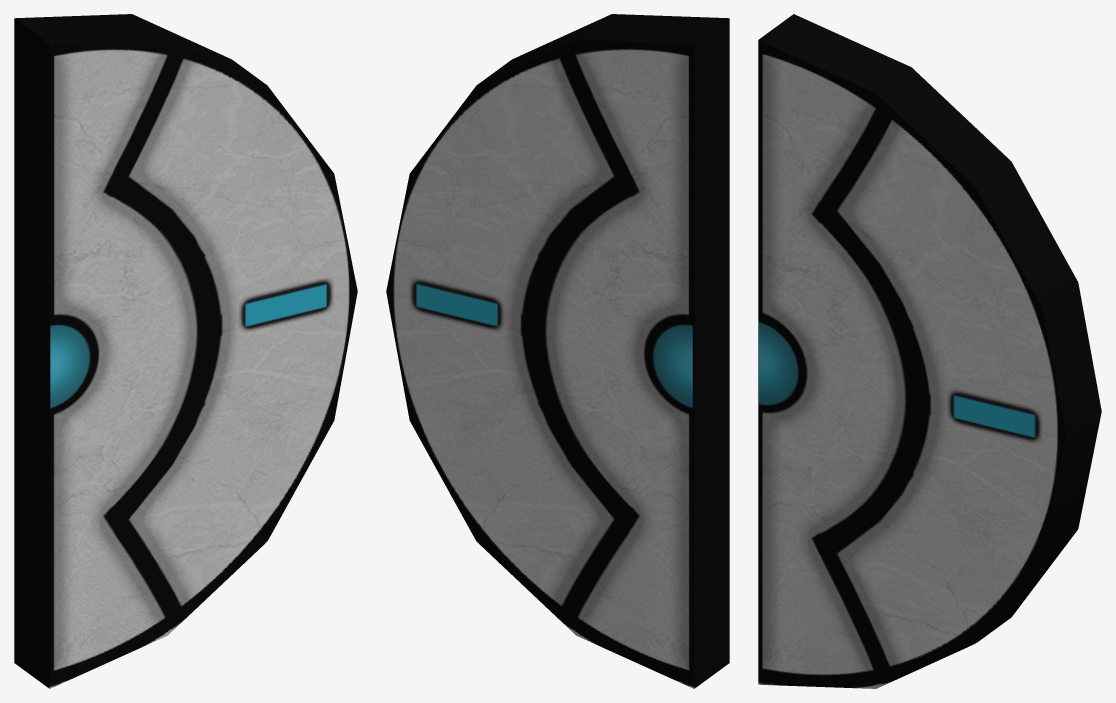
Rendered from door.fbx.
3 views of the same model, side by side, from view 1: azimuth 30°, elevation 25°; view 2: azimuth 150°, elevation 25°; view 3: azimuth 330°, elevation 25° (orthographic).
Visible parts, largest first — view 1: Door; view 2: Door; view 3: Door.
Boxes of the visible parts, bbox=[...] form: Door: bbox=[14, 14, 357, 688]; Door: bbox=[386, 14, 729, 688]; Door: bbox=[758, 14, 1101, 688].
Bounding box in the file's own units: 50 × 100 × 10.
Materials: 1 (1 with a texture image).
